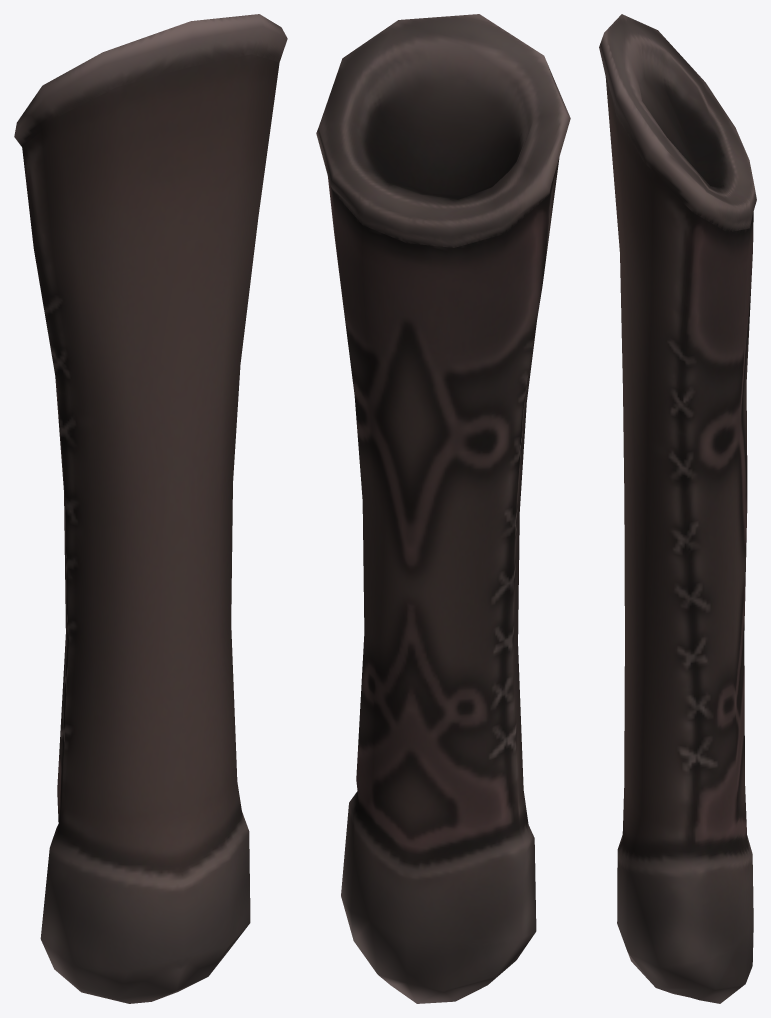
File: quiver.FBX
3 renders of one model, left to right at view 1: azimuth 30°, elevation 25°; view 2: azimuth 150°, elevation 25°; view 3: azimuth 270°, elevation 25°, orthographic. The views are drawn at different scales.
Parts seen in each view (by area): view 1: quiver; view 2: quiver; view 3: quiver.
Boxes of the visible parts, x1,y1,x2,y2 form: quiver: (14, 14, 287, 1003); quiver: (316, 14, 570, 1003); quiver: (599, 14, 756, 1003).
Size of the model in its own units: 21.6 by 12.42 by 83.45.
Materials: 1 (1 with a texture image).
